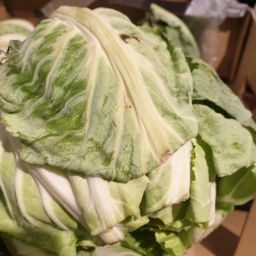Cauliflower: (2, 12, 202, 256), (74, 15, 256, 242), (9, 81, 174, 247)
